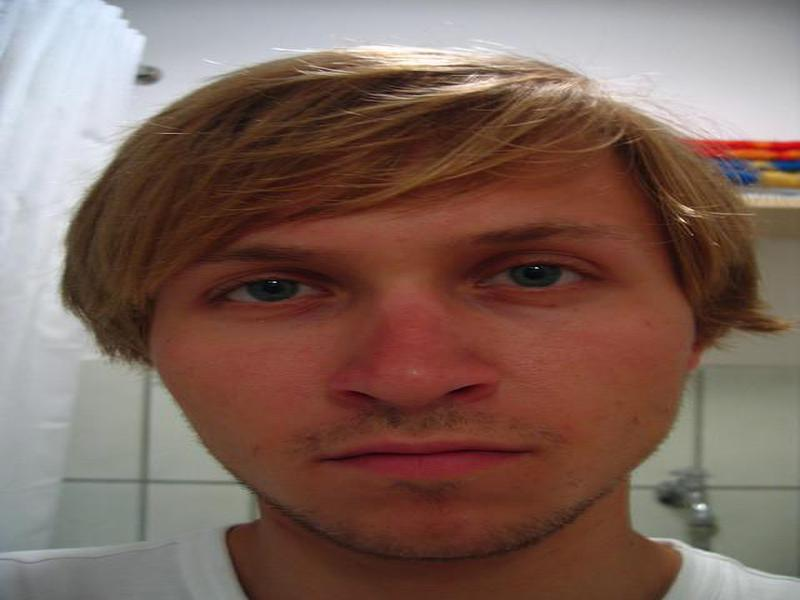person: (4, 41, 776, 600)
